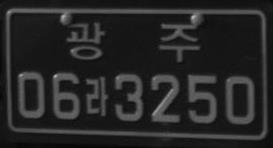0: (223, 74, 256, 125), (16, 70, 46, 120)
2: (149, 73, 181, 122)
3: (112, 72, 144, 121)
5: (186, 72, 218, 124)
6: (51, 72, 81, 120)
광주_D: (65, 20, 200, 63)
라: (85, 76, 108, 116)
